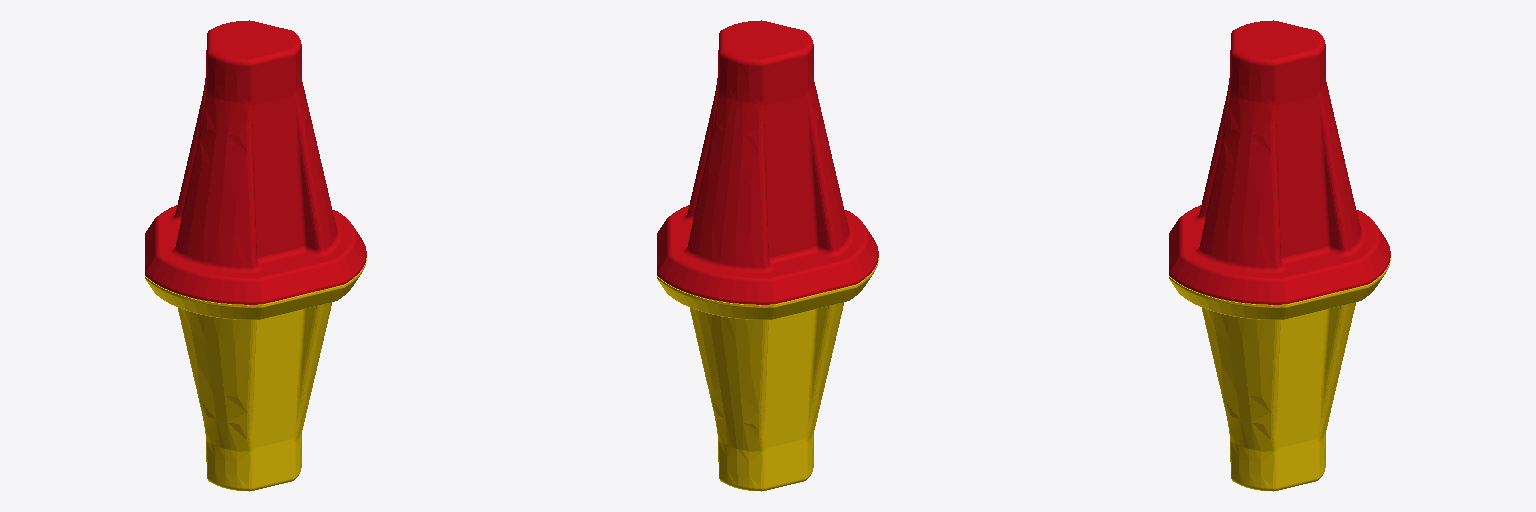
URDF robot description (override_pin_red_yellow):
<?xml version='1.0' encoding='utf-8'?>
<robot name="override_pin_red_yellow">
  <link name="pin">
    <inertial>
      <mass value="0.075" />
      <origin xyz="0 0 0" rpy="0 0 0" />
      <inertia ixx="0.000183825" iyy="0.000183825" izz="0.000183825" ixy="0" ixz="0" iyz="0" />
    </inertial>
    <visual>
      <geometry>
        <mesh filename="../meshes/override/pin_upper.obj" />
      </geometry>
      <material name=".._meshes_override_pin_upper.obj">
        <color rgba=".82 .08 .13 1" />
      </material>
    </visual>
    <visual>
      <geometry>
        <mesh filename="../meshes/override/pin_lower.obj" />
      </geometry>
      <material name=".._meshes_override_pin_lower.obj">
        <color rgba=".98 .83 .05 1" />
      </material>
    </visual>
    <collision>
      <geometry>
        <mesh filename="pin_root_-1_band_0.stl" />
      </geometry>
    </collision>
    <collision>
      <geometry>
        <mesh filename="pin_root_-1_band_1.stl" />
      </geometry>
    </collision>
    <collision>
      <geometry>
        <mesh filename="pin_root_-1_band_2.stl" />
      </geometry>
    </collision>
    <collision>
      <geometry>
        <mesh filename="pin_root_-1_band_3.stl" />
      </geometry>
    </collision>
    <collision>
      <geometry>
        <mesh filename="pin_root_1_band_0.stl" />
      </geometry>
    </collision>
    <collision>
      <geometry>
        <mesh filename="pin_root_1_band_1.stl" />
      </geometry>
    </collision>
    <collision>
      <geometry>
        <mesh filename="pin_root_1_band_2.stl" />
      </geometry>
    </collision>
    <collision>
      <geometry>
        <mesh filename="pin_root_1_band_3.stl" />
      </geometry>
    </collision>
    <collision>
      <geometry>
        <mesh filename="pin_taper_-1.stl" />
      </geometry>
    </collision>
    <collision>
      <geometry>
        <mesh filename="pin_taper_1.stl" />
      </geometry>
    </collision>
    <collision>
      <geometry>
        <mesh filename="pin_tip_-1.stl" />
      </geometry>
    </collision>
    <collision>
      <geometry>
        <mesh filename="pin_tip_1.stl" />
      </geometry>
    </collision>
    <collision>
      <geometry>
        <mesh filename="pin_flange.stl" />
      </geometry>
    </collision>
  </link>
</robot>

--- Render facts (derived) ---
The picture shows the robot from 3 angles, left to right: view 1: azimuth 30°, elevation 25°; view 2: azimuth 150°, elevation 25°; view 3: azimuth 270°, elevation 25°; orthographic projection.
Model override_pin_red_yellow with 1 links and 0 joints (none), rooted at pin, posed all joints at 0.
Links seen in each view (by area): view 1: pin; view 2: pin; view 3: pin.
Link boxes in pixels (x1,y1,x2,y2): pin: (145,20,366,491); pin: (657,20,878,491); pin: (1169,20,1390,491).
Bounding box of the posed robot: 0.0803 × 0.0768 × 0.165 m (x, y, z).
Meshes: 2 distinct files referenced, 2 mesh visuals loaded (2 OBJ).
